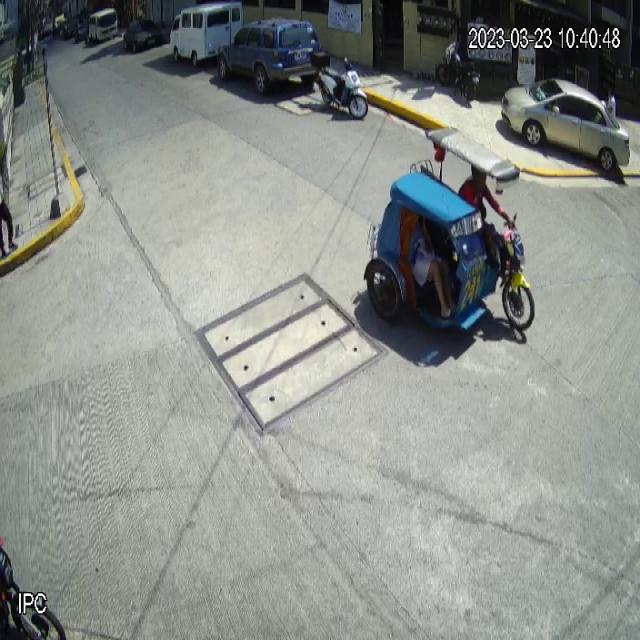Car: (501, 79, 631, 172), (216, 15, 322, 97)
Motorcycle: (312, 51, 368, 120)
Tricycle: (362, 124, 536, 336)
Van: (169, 0, 243, 67)
